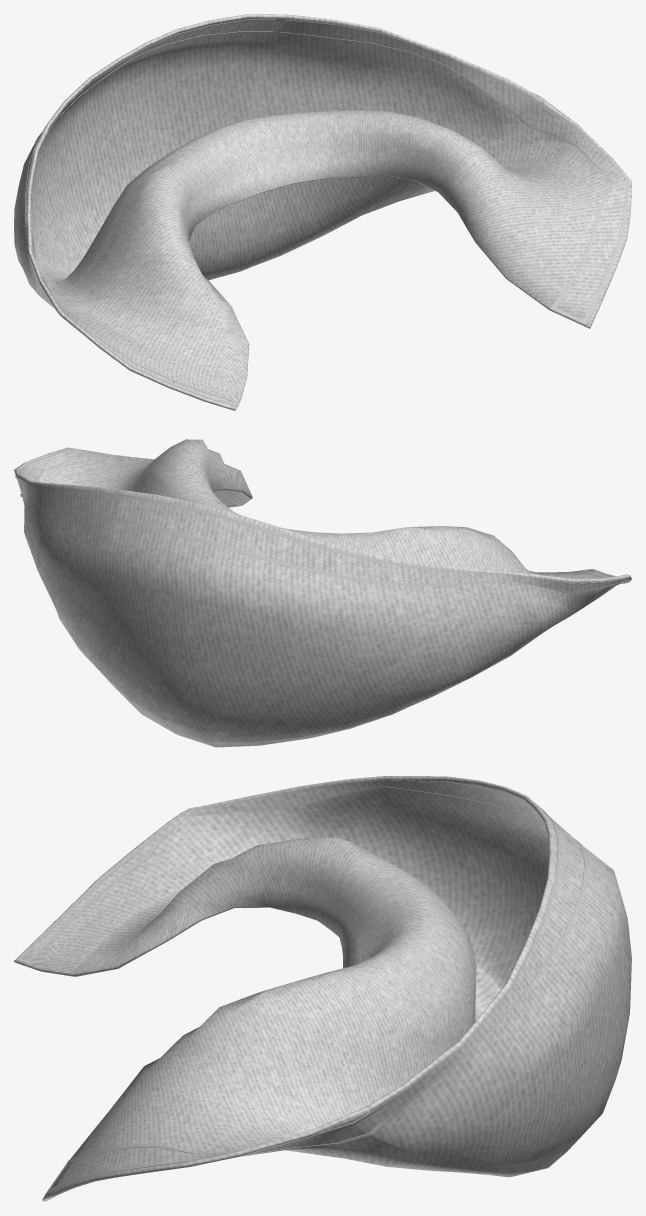
File: Hood2.glb
3 renders of one model, top to bottom at view 1: azimuth 30°, elevation 25°; view 2: azimuth 150°, elevation 25°; view 3: azimuth 270°, elevation 25°, orthographic. The views are drawn at different scales.
Visible parts, largest first — view 1: Hood21, Rope1; view 2: Hood21, Rope1; view 3: Hood21, Rope1.
Boxes of the visible parts, x1,y1,x2,y2 form: Hood21: [14, 14, 631, 410]; Rope1: [24, 19, 628, 406]; Hood21: [14, 439, 631, 747]; Rope1: [14, 448, 629, 593]; Hood21: [14, 776, 631, 1201]; Rope1: [17, 780, 587, 1194].
Bounding box in the file's own units: 0.6939 × 0.2834 × 0.5256.
2 materials, 2 textured.
